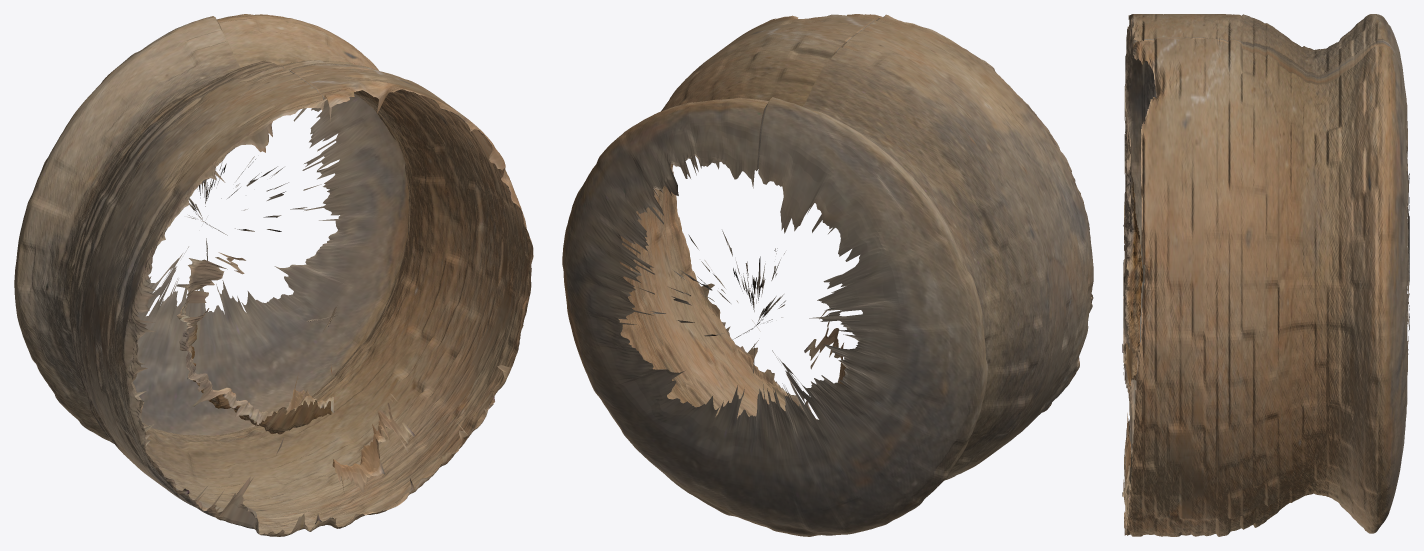
The picture shows the model from 3 angles, left to right: view 1: azimuth 30°, elevation 25°; view 2: azimuth 150°, elevation 25°; view 3: azimuth 270°, elevation 25°; orthographic projection. The views are drawn at different scales.
Visible parts, largest first — view 1: geometry_0; view 2: geometry_0; view 3: geometry_0.
Part boxes in pixels (x1,y1,x2,y2): geometry_0: (14,14,533,536); geometry_0: (562,14,1093,536); geometry_0: (1122,14,1409,536).
Size of the model in its own units: 2 by 2 by 1.1.
1 material, 1 textured.
